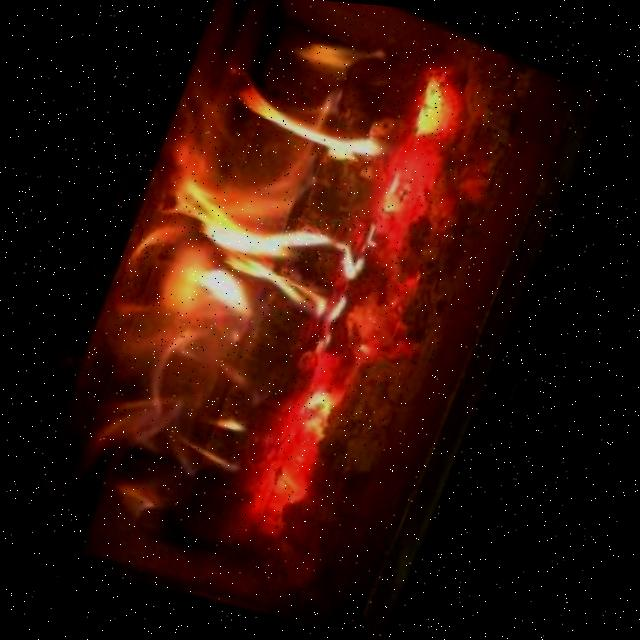fire: (35, 0, 522, 592)
